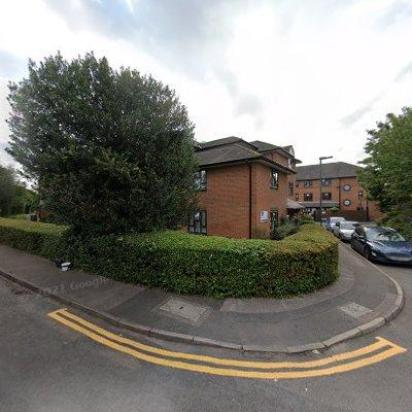stationary-car-onstreet: (350, 223, 412, 268), (332, 221, 362, 242), (325, 217, 345, 230)
